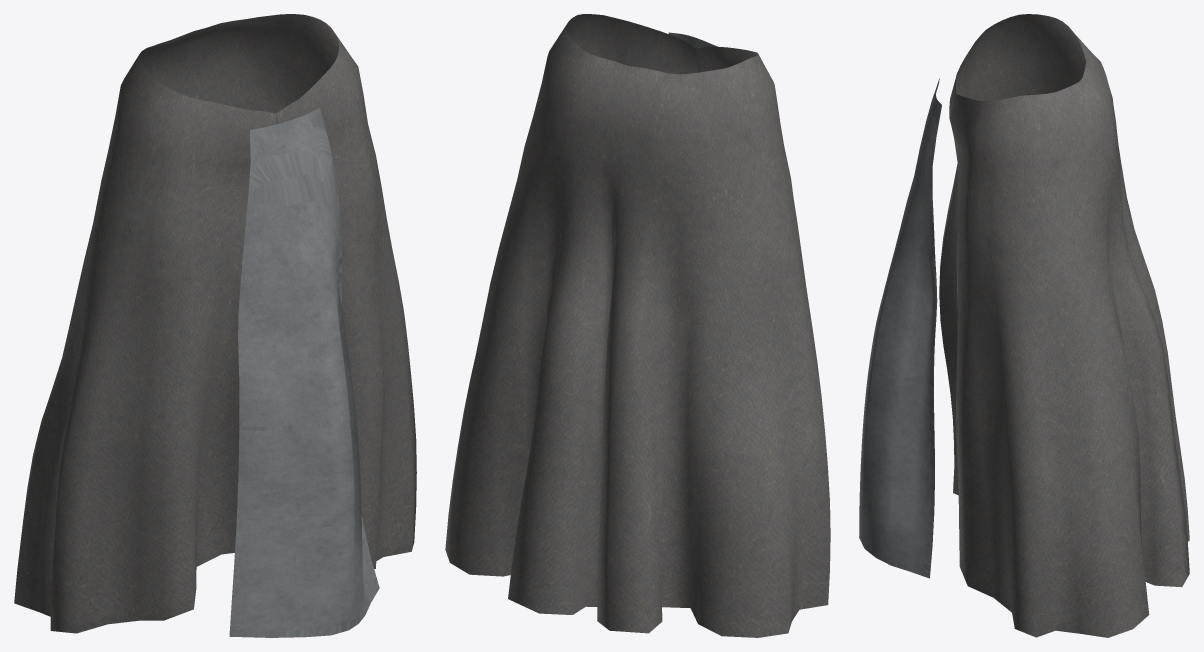
File: clo_rivendell_torso_lord2.fbx
3 views of the same model, side by side, from view 1: azimuth 30°, elevation 25°; view 2: azimuth 150°, elevation 25°; view 3: azimuth 270°, elevation 25° (orthographic). The views are drawn at different scales.
Parts seen in each view (by area): view 1: clo_rivendell_torso_lord2; view 2: clo_rivendell_torso_lord2; view 3: clo_rivendell_torso_lord2.
Part boxes in pixels (x1=…): clo_rivendell_torso_lord2: x1=14, y1=14, x2=416, y2=637; clo_rivendell_torso_lord2: x1=445, y1=14, x2=830, y2=637; clo_rivendell_torso_lord2: x1=859, y1=14, x2=1189, y2=637.
Bounding box in the file's own units: 0.6018 × 0.5129 × 0.8752.
Materials: 1 (1 with a texture image).
